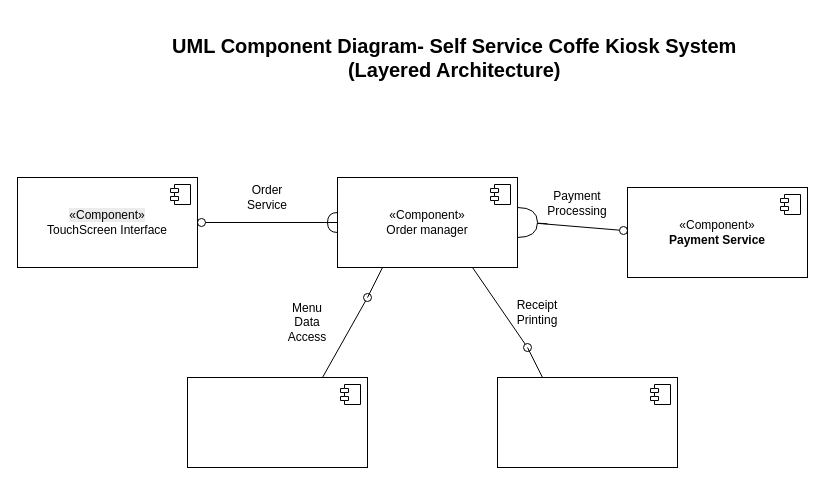
Image size: 825x485. Some labels were removed from this diagram. Here are the shapes that lost their labels. From the top down, the centre of each, then its label:
At pixel 277 422: "«Component» Menu database".
At pixel 587 422: "«Component» Receipt Printer".
